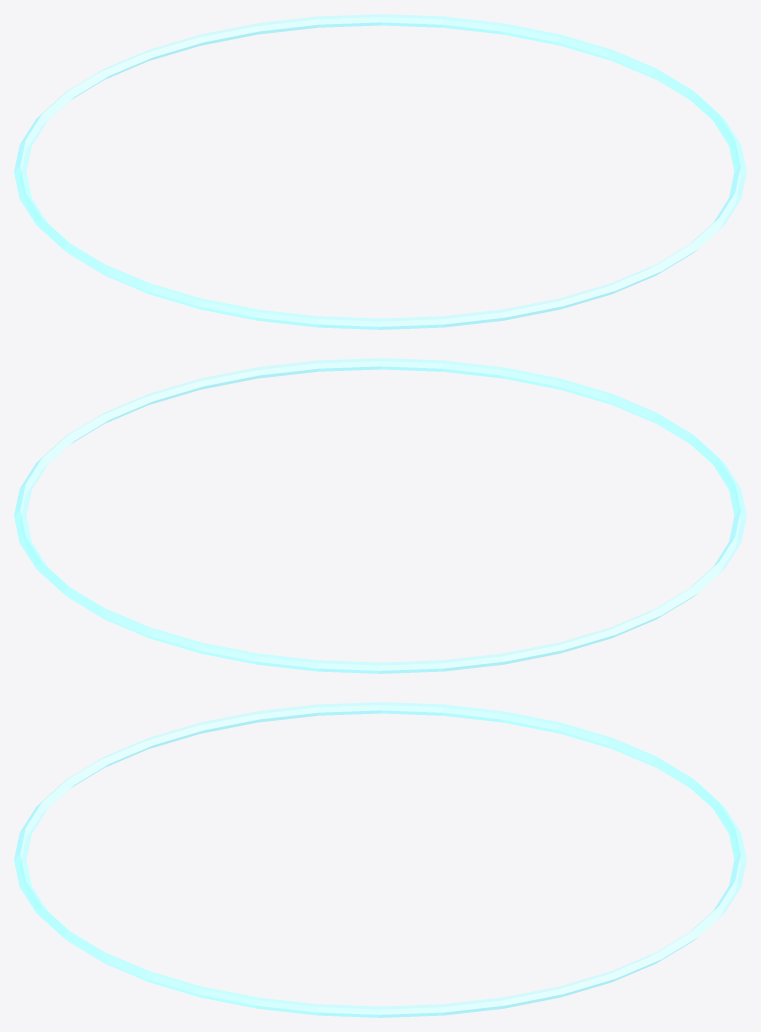
Rendered from ripple_ring_wide.glb.
3 views of the same model, one above another, from view 1: azimuth 30°, elevation 25°; view 2: azimuth 150°, elevation 25°; view 3: azimuth 270°, elevation 25° (orthographic).
Parts seen in each view (by area): view 1: ripple_ring_wide; view 2: ripple_ring_wide; view 3: ripple_ring_wide.
Part boxes in pixels (<box>): ripple_ring_wide: <box>14,14,746,329</box>; ripple_ring_wide: <box>14,358,746,673</box>; ripple_ring_wide: <box>14,702,746,1017</box>.
Size of the model in its own units: 0.407 by 0.007 by 0.407.
